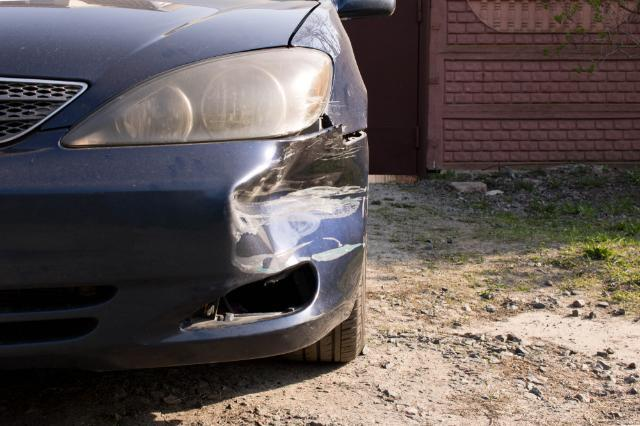dent: (233, 138, 367, 265)
dislocated part: (316, 113, 371, 154)
no part: (183, 261, 320, 329)
scratch: (225, 193, 366, 275)
